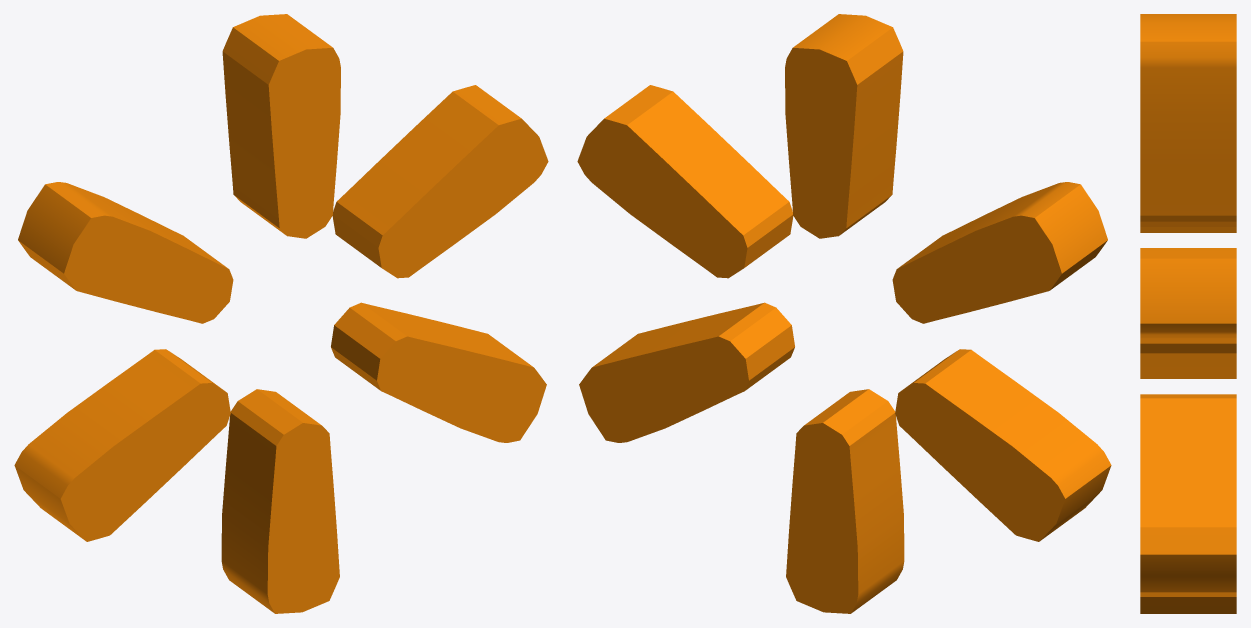
Rendered from spark 2.obj.
The picture shows the model from 3 angles, left to right: view 1: azimuth 30°, elevation 25°; view 2: azimuth 150°, elevation 25°; view 3: azimuth 270°, elevation 25°; orthographic projection. The views are drawn at different scales.
Visible parts, largest first — view 1: pPlane7; view 2: pPlane7; view 3: pPlane7.
Boxes of the visible parts, x1=… form: pPlane7: x1=14, y1=14, x2=548, y2=613; pPlane7: x1=577, y1=14, x2=1111, y2=613; pPlane7: x1=1140, y1=14, x2=1236, y2=613.
Bounding box in the file's own units: 9.37 × 10.31 × 1.54.
